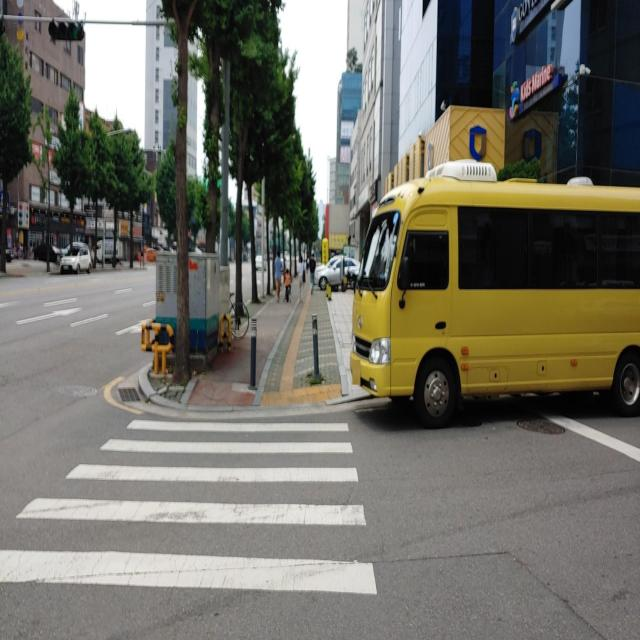횡단보도: (0, 413, 380, 603)
